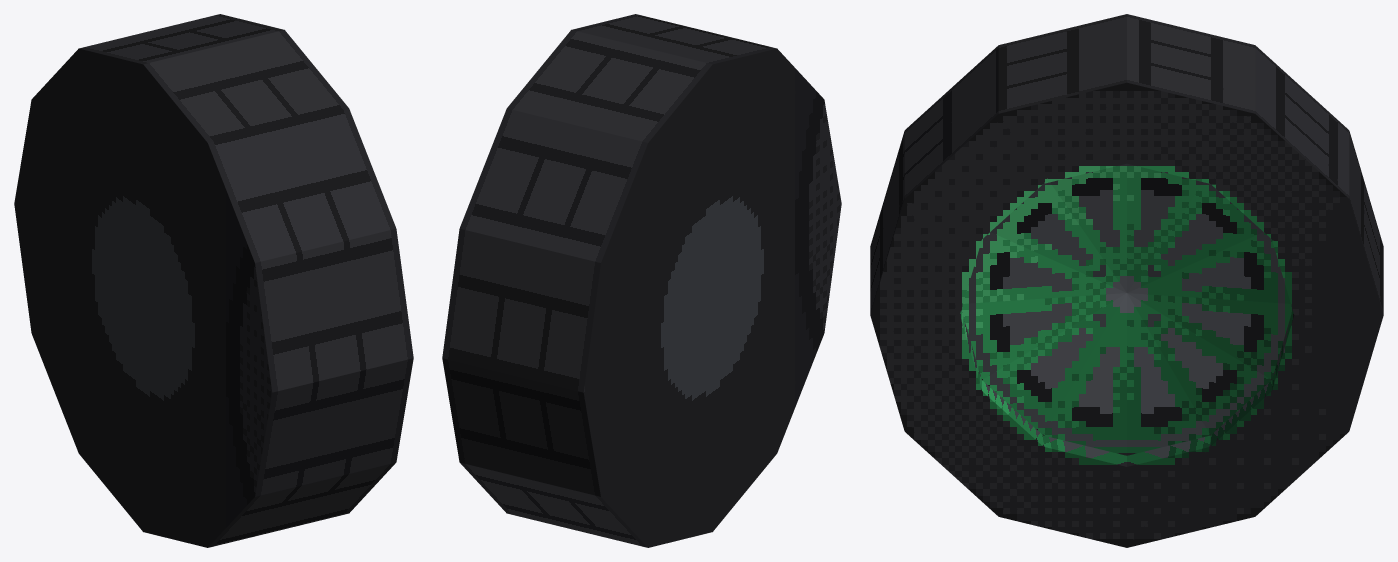
File: wheel_window.glb
3 renders of one model, left to right at view 1: azimuth 30°, elevation 25°; view 2: azimuth 150°, elevation 25°; view 3: azimuth 270°, elevation 25°, orthographic.
Visible parts, largest first — view 1: wheel_window; view 2: wheel_window; view 3: wheel_window.
Part boxes in pixels (x1,y1,x2,y2): wheel_window: (14, 14, 413, 547); wheel_window: (442, 14, 841, 547); wheel_window: (870, 14, 1383, 547).
Size of the model in its own units: 0.185 by 0.5845 by 0.5845.
1 material, 1 textured.
